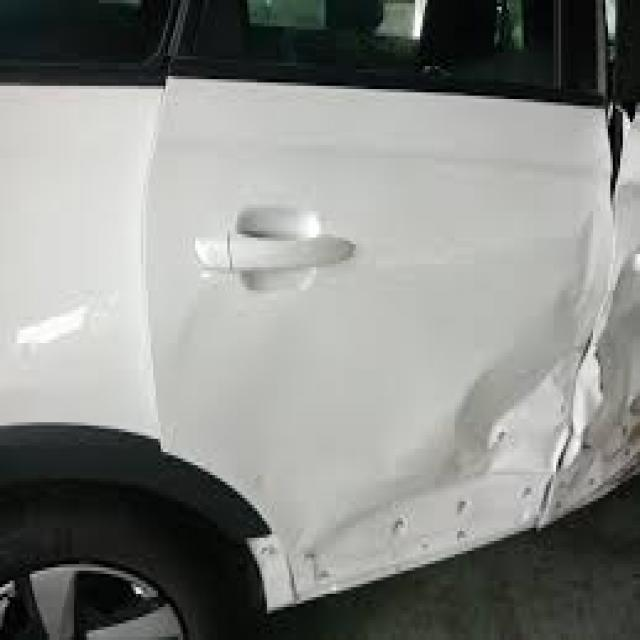damaged-door: (164, 11, 614, 574)
